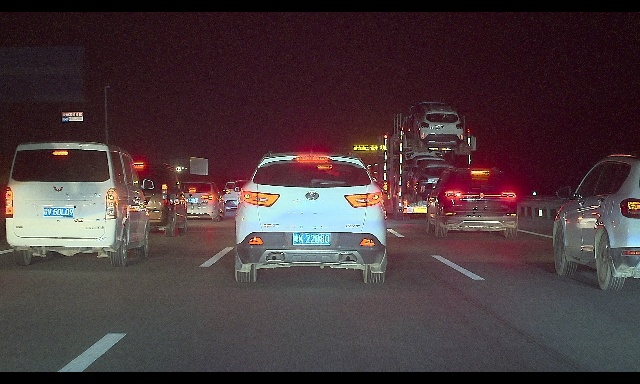car: (233, 150, 388, 284), (5, 141, 154, 268), (553, 154, 640, 291), (425, 166, 518, 238), (115, 163, 189, 237), (172, 181, 227, 222), (222, 181, 257, 213)
truck: (370, 102, 477, 220)
